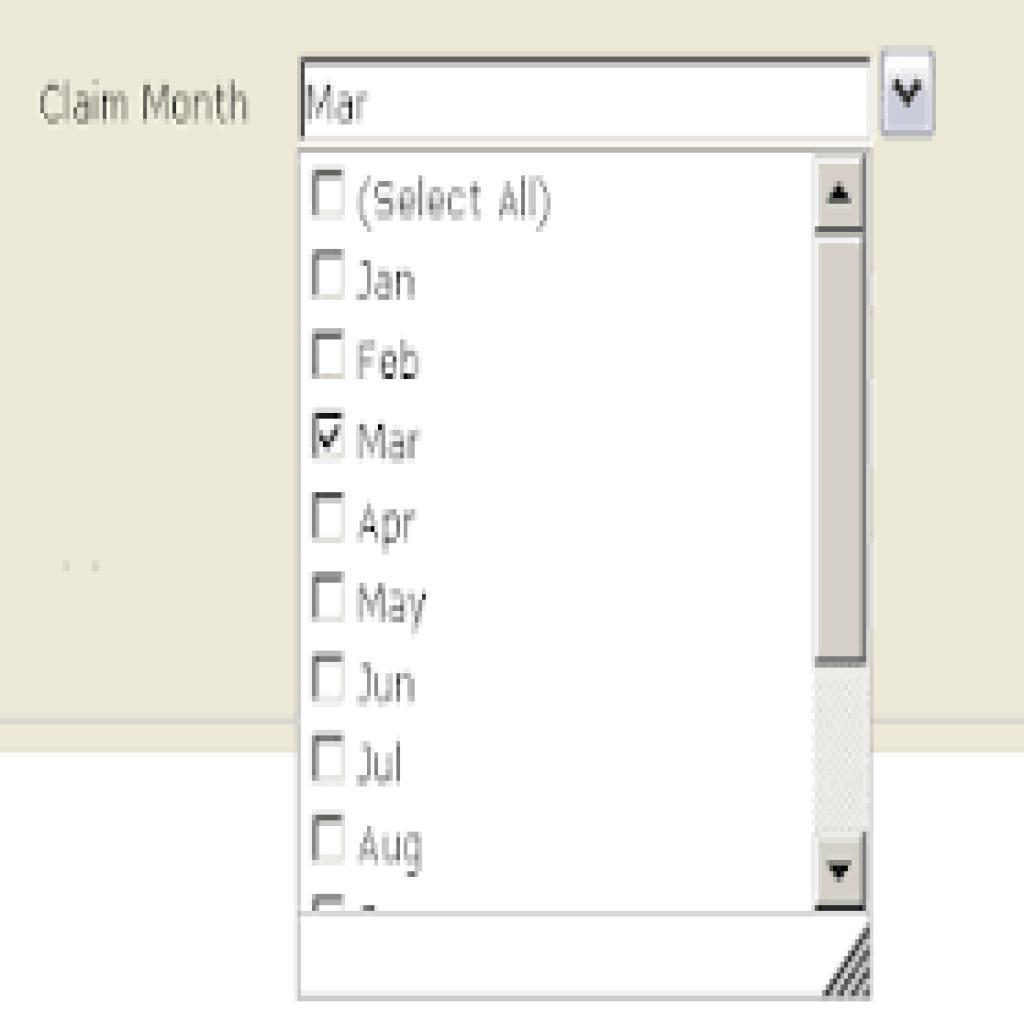checkbox: (309, 245, 351, 303), (309, 729, 350, 785), (310, 811, 350, 868), (309, 651, 350, 706), (310, 168, 350, 224), (309, 410, 349, 462), (309, 328, 348, 381), (311, 572, 350, 623), (310, 490, 347, 543)
dropdown: (298, 51, 939, 140)
